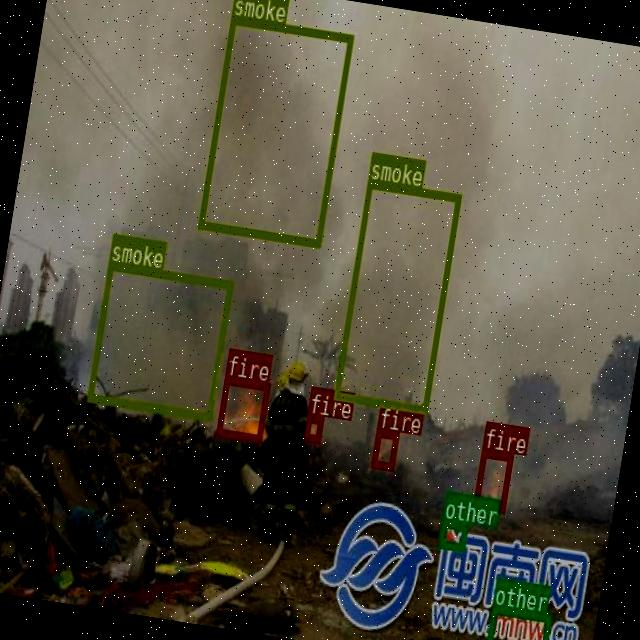fire: (216, 375, 270, 441), (472, 448, 513, 512), (371, 428, 398, 469), (302, 413, 324, 442)
smoke: (198, 15, 352, 246), (332, 179, 460, 412), (87, 260, 232, 420)
